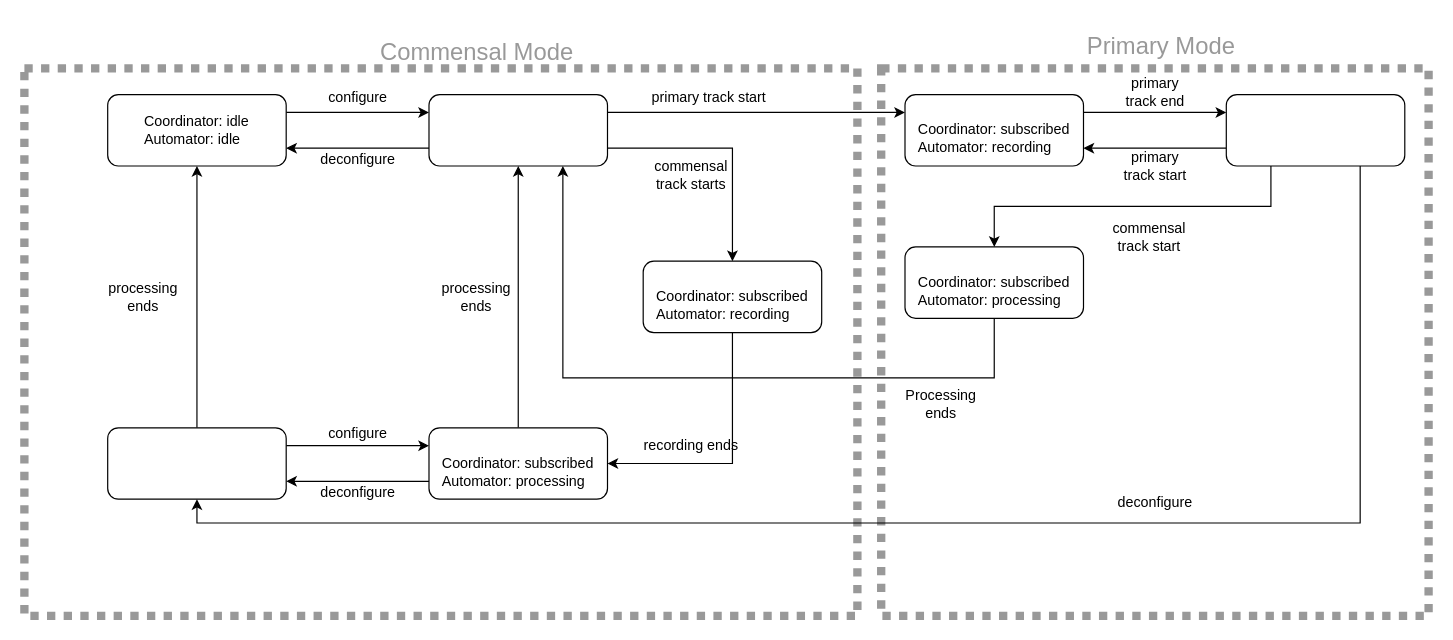
The diagram is 1453 pixels wide and 640 high, and some of its shapes have lost their labels. Each missing label, with the centre of its shape:
Coordinator: idle Automator: processing: point (196, 463)
Coordinator: subscribed Automator: idle: point (517, 129)
Mode: primary Coordinator: subscribed Automator: idle: point (1315, 129)
